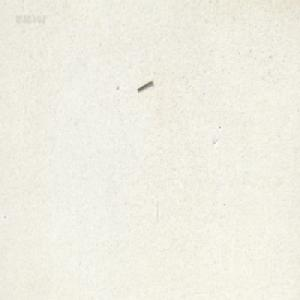Bolt: (136, 78, 152, 91)
